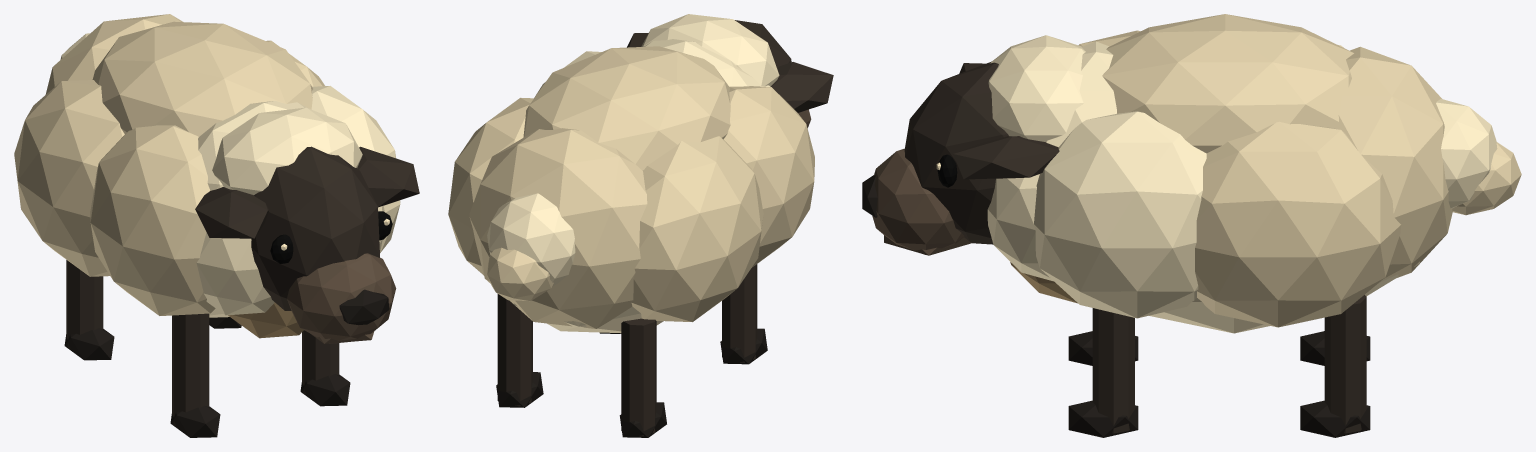
Rendered from Sheep.glb.
The picture shows the model from 3 angles, left to right: view 1: azimuth 30°, elevation 25°; view 2: azimuth 150°, elevation 25°; view 3: azimuth 270°, elevation 25°; orthographic projection. The views are drawn at different scales.
Visible parts, largest first — view 1: Sheep_WoolBody, Sheep_Head, Sheep_WoolCap, Sheep_WoolChest, Sheep_Muzzle, Sheep_Leg_FR, Sheep_Ear_R, Sheep_Ear_L, Sheep_Leg_RR, Sheep_Leg_FL, Sheep_Nose, Sheep_Hoof_RR (+3 smaller); view 2: Sheep_WoolBody, Sheep_Tail, Sheep_WoolCap, Sheep_Leg_RR, Sheep_Leg_RL, Sheep_Leg_FR, Sheep_Ear_R, Sheep_Hoof_FR, Sheep_Hoof_RL, Sheep_Hoof_RR, Sheep_Head; view 3: Sheep_WoolBody, Sheep_Head, Sheep_WoolCap, Sheep_Tail, Sheep_Muzzle, Sheep_Leg_RL, Sheep_WoolChest, Sheep_Leg_FL, Sheep_Ear_L, Sheep_Hoof_RL, Sheep_Hoof_FL, Sheep_Hoof_RR (+1 smaller).
Part boxes in pixels (left/top/right/bottom): Sheep_WoolBody: left=14, top=14, right=400, bottom=317; Sheep_Head: left=251, top=146, right=379, bottom=310; Sheep_WoolCap: left=212, top=107, right=362, bottom=194; Sheep_WoolChest: left=196, top=205, right=384, bottom=338; Sheep_Muzzle: left=287, top=253, right=396, bottom=343; Sheep_Leg_FR: left=172, top=313, right=209, bottom=426; Sheep_Ear_R: left=195, top=187, right=269, bottom=238; Sheep_Ear_L: left=357, top=146, right=419, bottom=207; Sheep_Leg_RR: left=66, top=260, right=103, bottom=348; Sheep_Leg_FL: left=302, top=330, right=339, bottom=394; Sheep_Nose: left=339, top=289, right=389, bottom=325; Sheep_Hoof_RR: left=64, top=328, right=114, bottom=360; Sheep_WoolBody: left=448, top=39, right=814, bottom=333; Sheep_Tail: left=487, top=193, right=575, bottom=301; Sheep_WoolCap: left=641, top=14, right=779, bottom=86; Sheep_Leg_RR: left=621, top=318, right=656, bottom=436; Sheep_Leg_RL: left=497, top=294, right=532, bottom=406; Sheep_Leg_FR: left=722, top=264, right=757, bottom=362; Sheep_Ear_R: left=770, top=62, right=833, bottom=112; Sheep_Hoof_FR: left=720, top=328, right=767, bottom=364; Sheep_Hoof_RL: left=496, top=372, right=543, bottom=407; Sheep_Hoof_RR: left=619, top=402, right=666, bottom=437; Sheep_Head: left=735, top=20, right=791, bottom=68; Sheep_WoolBody: left=1034, top=14, right=1452, bottom=333; Sheep_Head: left=904, top=61, right=1008, bottom=244; Sheep_WoolCap: left=988, top=35, right=1085, bottom=141; Sheep_Tail: left=1436, top=99, right=1521, bottom=215; Sheep_Muzzle: left=872, top=148, right=964, bottom=254; Sheep_Leg_RL: left=1324, top=295, right=1366, bottom=433; Sheep_WoolChest: left=987, top=174, right=1077, bottom=303; Sheep_Leg_FL: left=1092, top=308, right=1134, bottom=433; Sheep_Ear_L: left=953, top=136, right=1059, bottom=179; Sheep_Hoof_RL: left=1300, top=400, right=1370, bottom=437; Sheep_Hoof_FL: left=1068, top=400, right=1138, bottom=437; Sheep_Hoof_RR: left=1300, top=331, right=1370, bottom=365.
Bounding box in the file's own units: 1.25 × 1.4 × 2.25.
